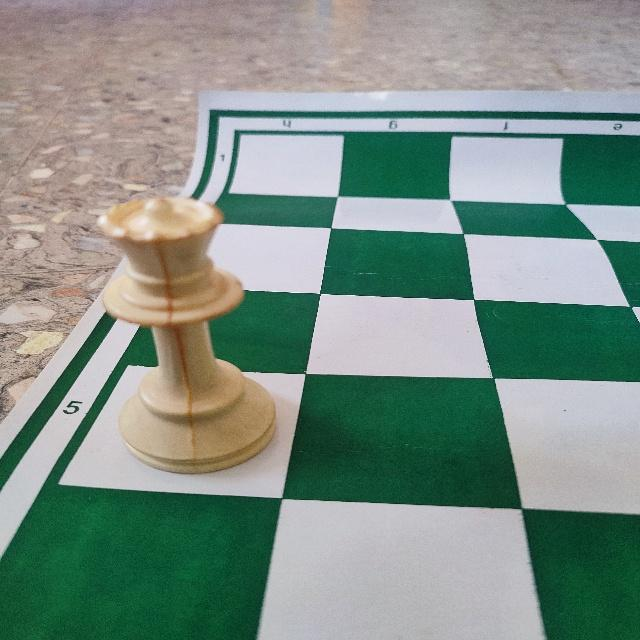Queen: (92, 190, 284, 480)
